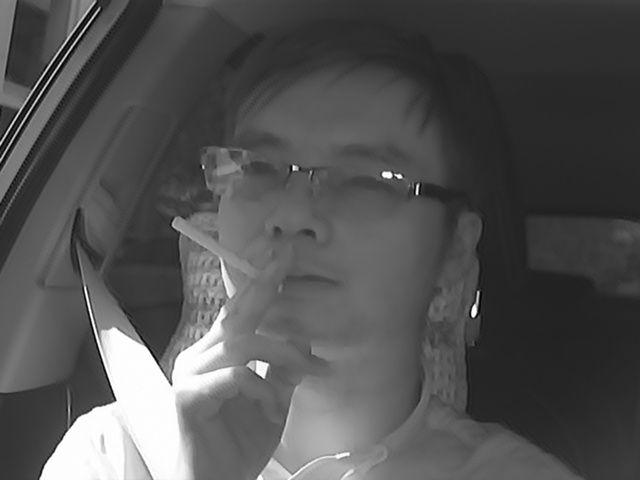hand: (166, 247, 318, 457)
